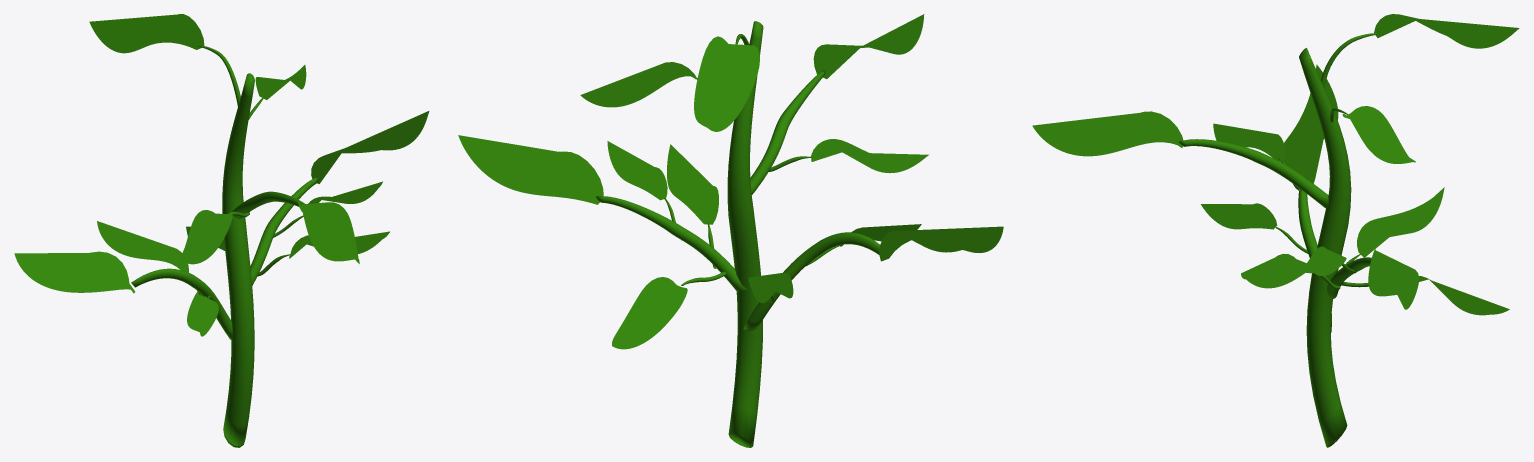
The model's file is tomato2Output.fbx.
3 views of the same model, side by side, from view 1: azimuth 30°, elevation 25°; view 2: azimuth 150°, elevation 25°; view 3: azimuth 270°, elevation 25° (orthographic). The views are drawn at different scales.
Parts seen in each view (by area): view 1: BezierCurve.011; view 2: BezierCurve.011; view 3: BezierCurve.011.
Part boxes in pixels (x1,y1,x2,y2): BezierCurve.011: [14, 14, 429, 447]; BezierCurve.011: [458, 14, 1003, 447]; BezierCurve.011: [1032, 14, 1519, 447].
Size of the model in its own units: 470 by 399 by 417.
